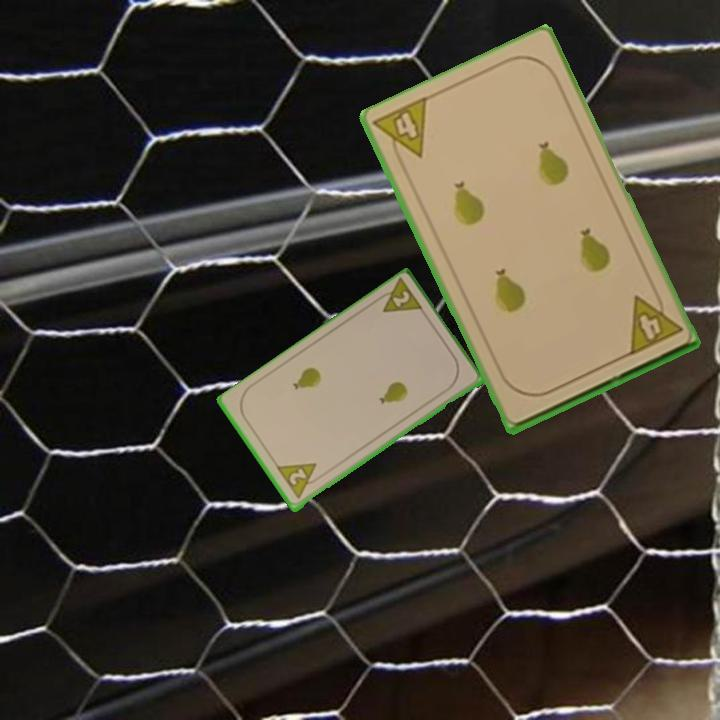2p: (371, 276, 427, 316), (274, 459, 325, 502)
4p: (370, 93, 431, 172), (624, 285, 685, 358)
